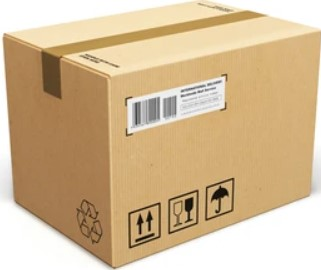stock: (6, 4, 320, 270)
